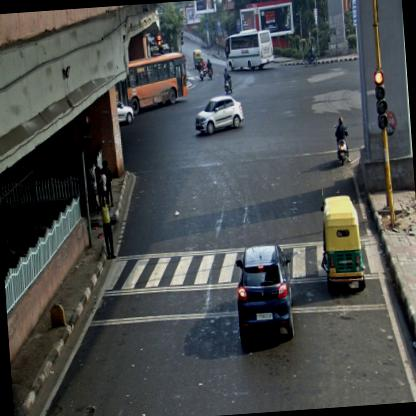bus: (113, 52, 190, 118), (225, 28, 275, 71)
car: (232, 243, 298, 346), (192, 94, 244, 136)
motorcycle: (336, 117, 350, 168), (223, 68, 232, 94), (207, 59, 214, 80), (198, 62, 204, 80), (201, 59, 207, 77)
